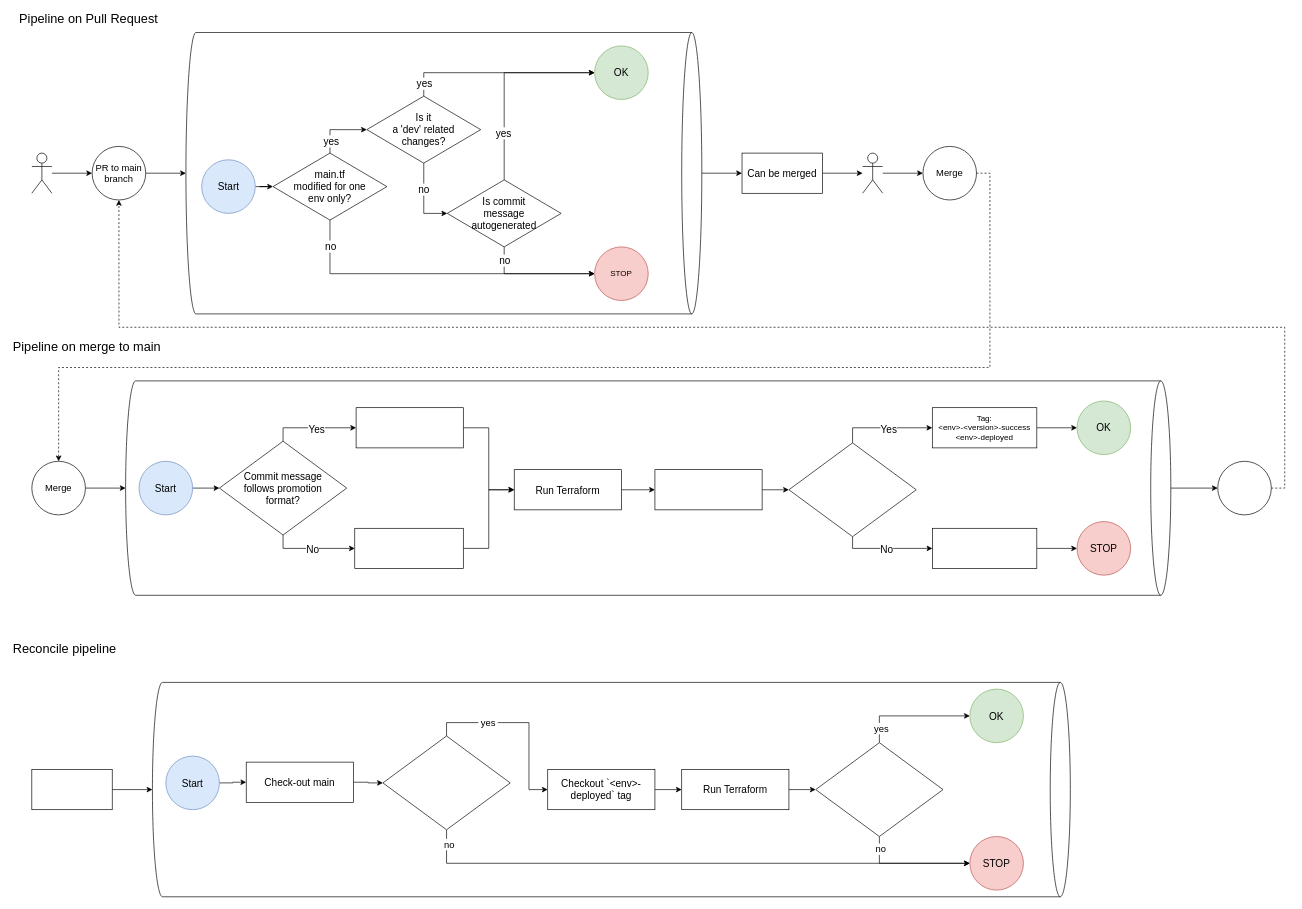
The diagram is 1302 pixels wide and 909 high, and some of its shapes have lost their labels. Here are the shapes that lost their labels. From the top down, the box of each, then its label:
(31, 152, 52, 193): Developer
(862, 152, 883, 193): Approval
(355, 407, 463, 448): Tag: <env>-<version>
(654, 469, 762, 510): Validate deployment
(788, 442, 916, 537): Validation successful?
(1217, 461, 1271, 515): Promotion PR to main branch
(354, 528, 463, 568): Tag: dev-<version>
(932, 528, 1037, 568): Tag: <env>-<version>-fail
(31, 769, 112, 810): Time trigger
(382, 735, 510, 830): <env>-deployed tag == last <env>-<version>
(815, 742, 943, 836): Successful?
